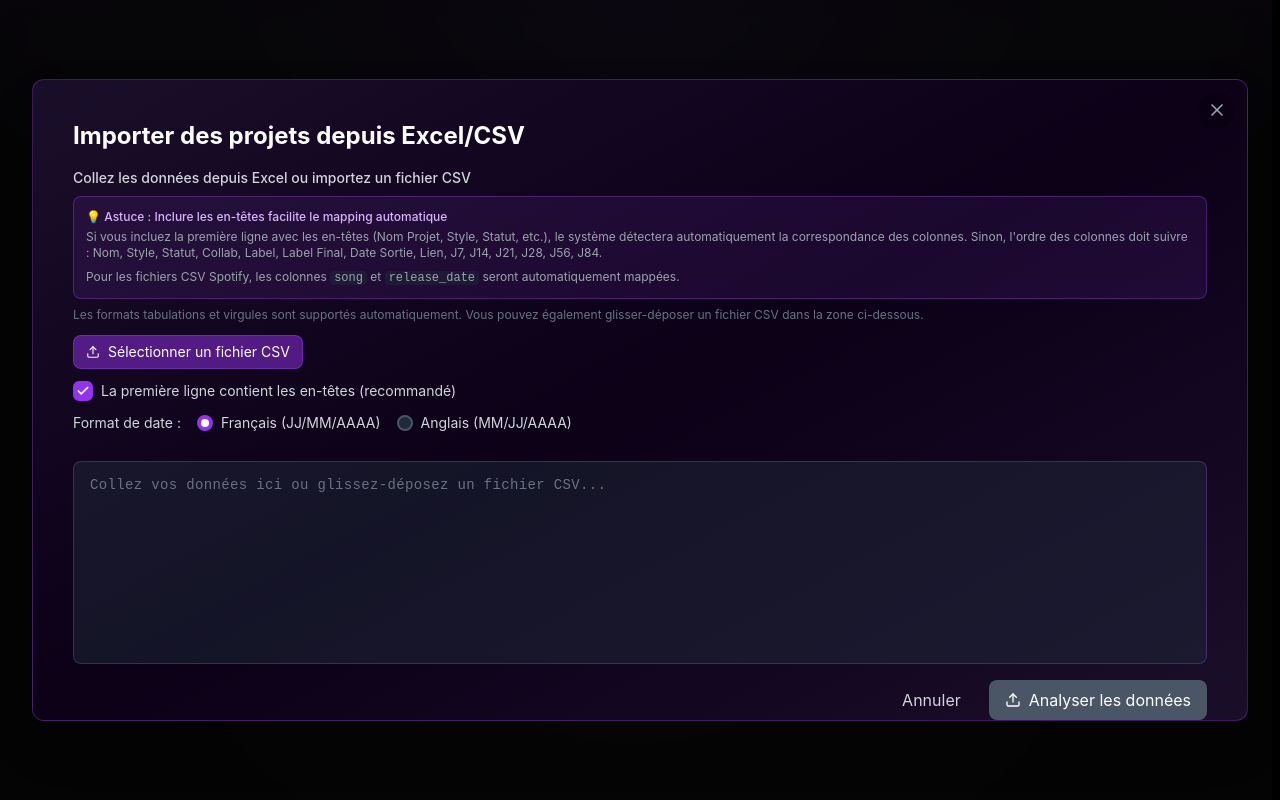
Scenario: ImportProjectsDialog › should handle import execution
The image size is (1280, 800).
Note: Go to preview
In the text box: [640, 562] box [73,461,1207,664], type "data"
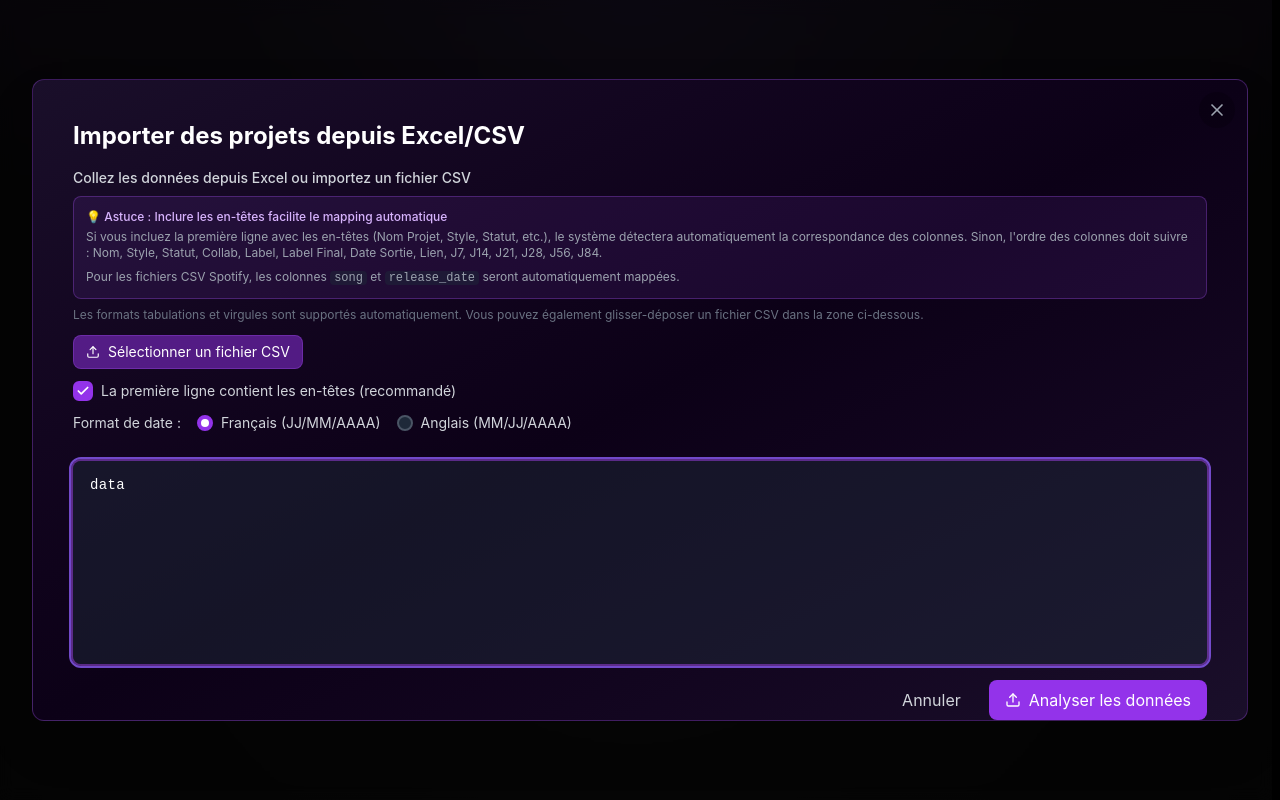
Click the button "Analyser les données": [1098, 700] box [989,680,1207,720]
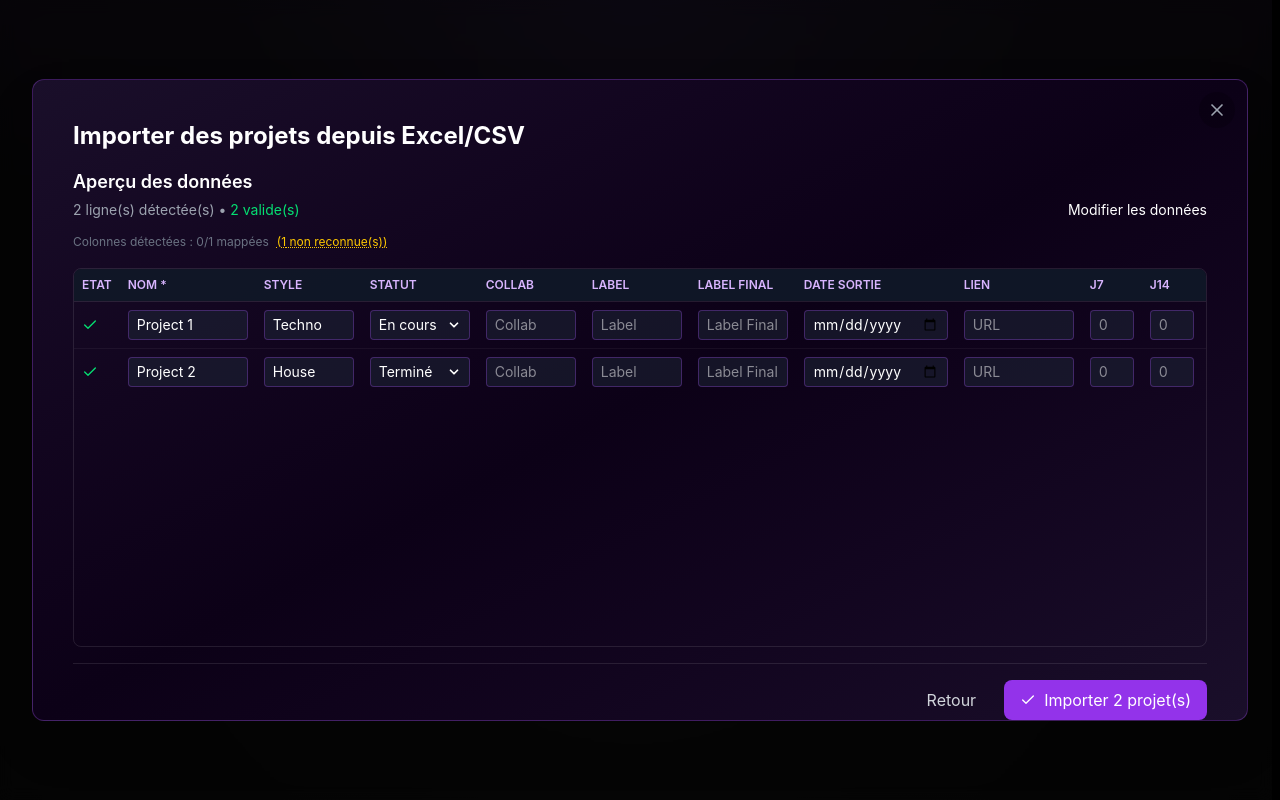
Result: the button "Importer 2 projet(s)" is shown
Note: Click Import
Click the button "Importer 2 projet(s)": [1106, 700] box [1004,680,1207,720]
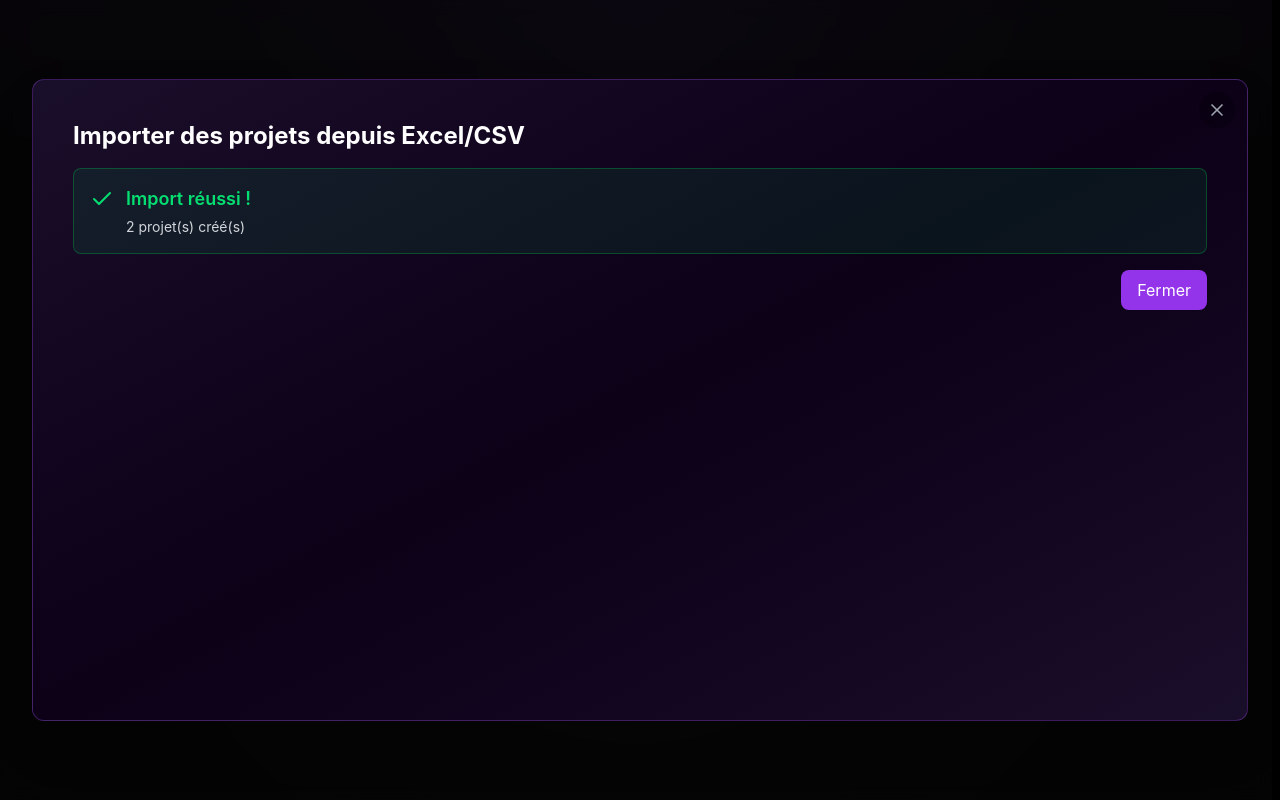
Result: the heading "Import réussi !" is shown at [126,188,251,209]
Result: the text "2 projet(s) créé(s)" is shown at [126,218,245,235]
